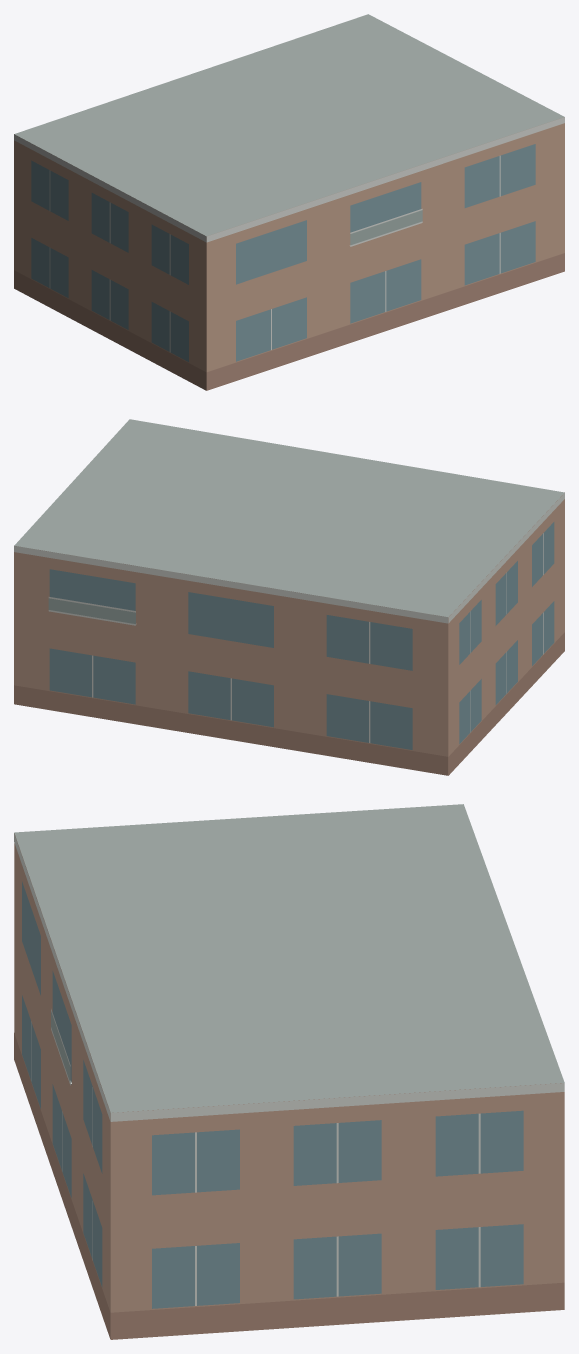
The model's file is survey-upis-32910317.glb.
3 renders of one model, top to bottom at view 1: azimuth 30°, elevation 25°; view 2: azimuth 150°, elevation 25°; view 3: azimuth 270°, elevation 25°, orthographic. The views are drawn at different scales.
Parts seen in each view (by area): view 1: survey-upis-32910317.tmp; view 2: survey-upis-32910317.tmp; view 3: survey-upis-32910317.tmp.
Part boxes in pixels (x1=…): survey-upis-32910317.tmp: x1=14, y1=14, x2=564, y2=390; survey-upis-32910317.tmp: x1=14, y1=419, x2=564, y2=775; survey-upis-32910317.tmp: x1=14, y1=804, x2=564, y2=1339.
Bounding box in the file's own units: 17.81 × 6.1 × 13.42.
